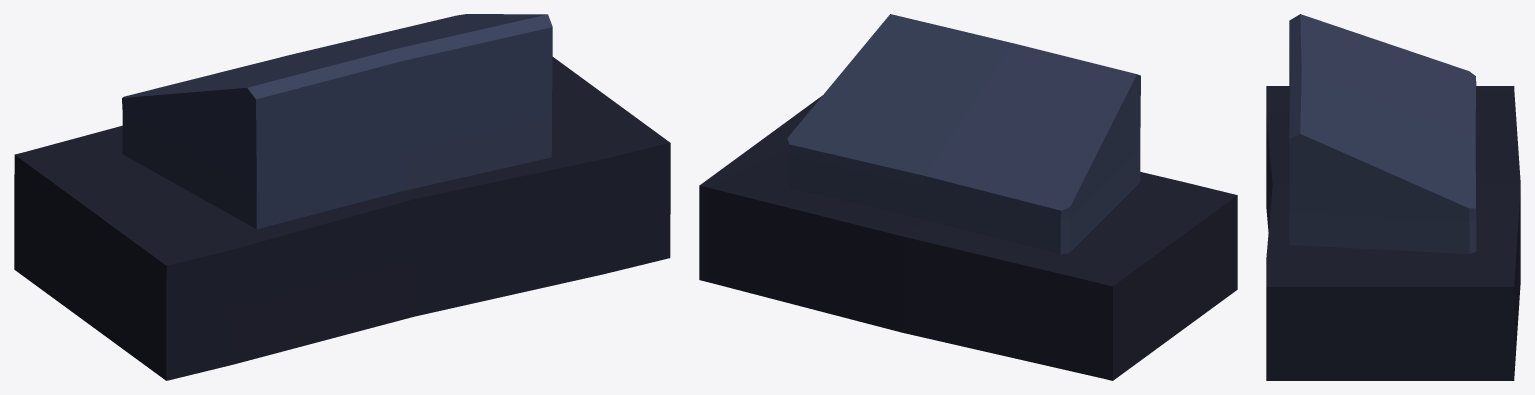
Rendered from Building_CemeteryPlaque.fbx.
The picture shows the model from 3 angles, left to right: view 1: azimuth 30°, elevation 25°; view 2: azimuth 150°, elevation 25°; view 3: azimuth 270°, elevation 25°; orthographic projection. The views are drawn at different scales.
Parts seen in each view (by area): view 1: CubeHome.008; view 2: CubeHome.008; view 3: CubeHome.008.
Boxes of the visible parts, bbox=[...] form: CubeHome.008: bbox=[14, 14, 670, 380]; CubeHome.008: bbox=[699, 14, 1237, 380]; CubeHome.008: bbox=[1266, 14, 1520, 380].
Size of the model in its own units: 147 by 70.97 by 78.71.
